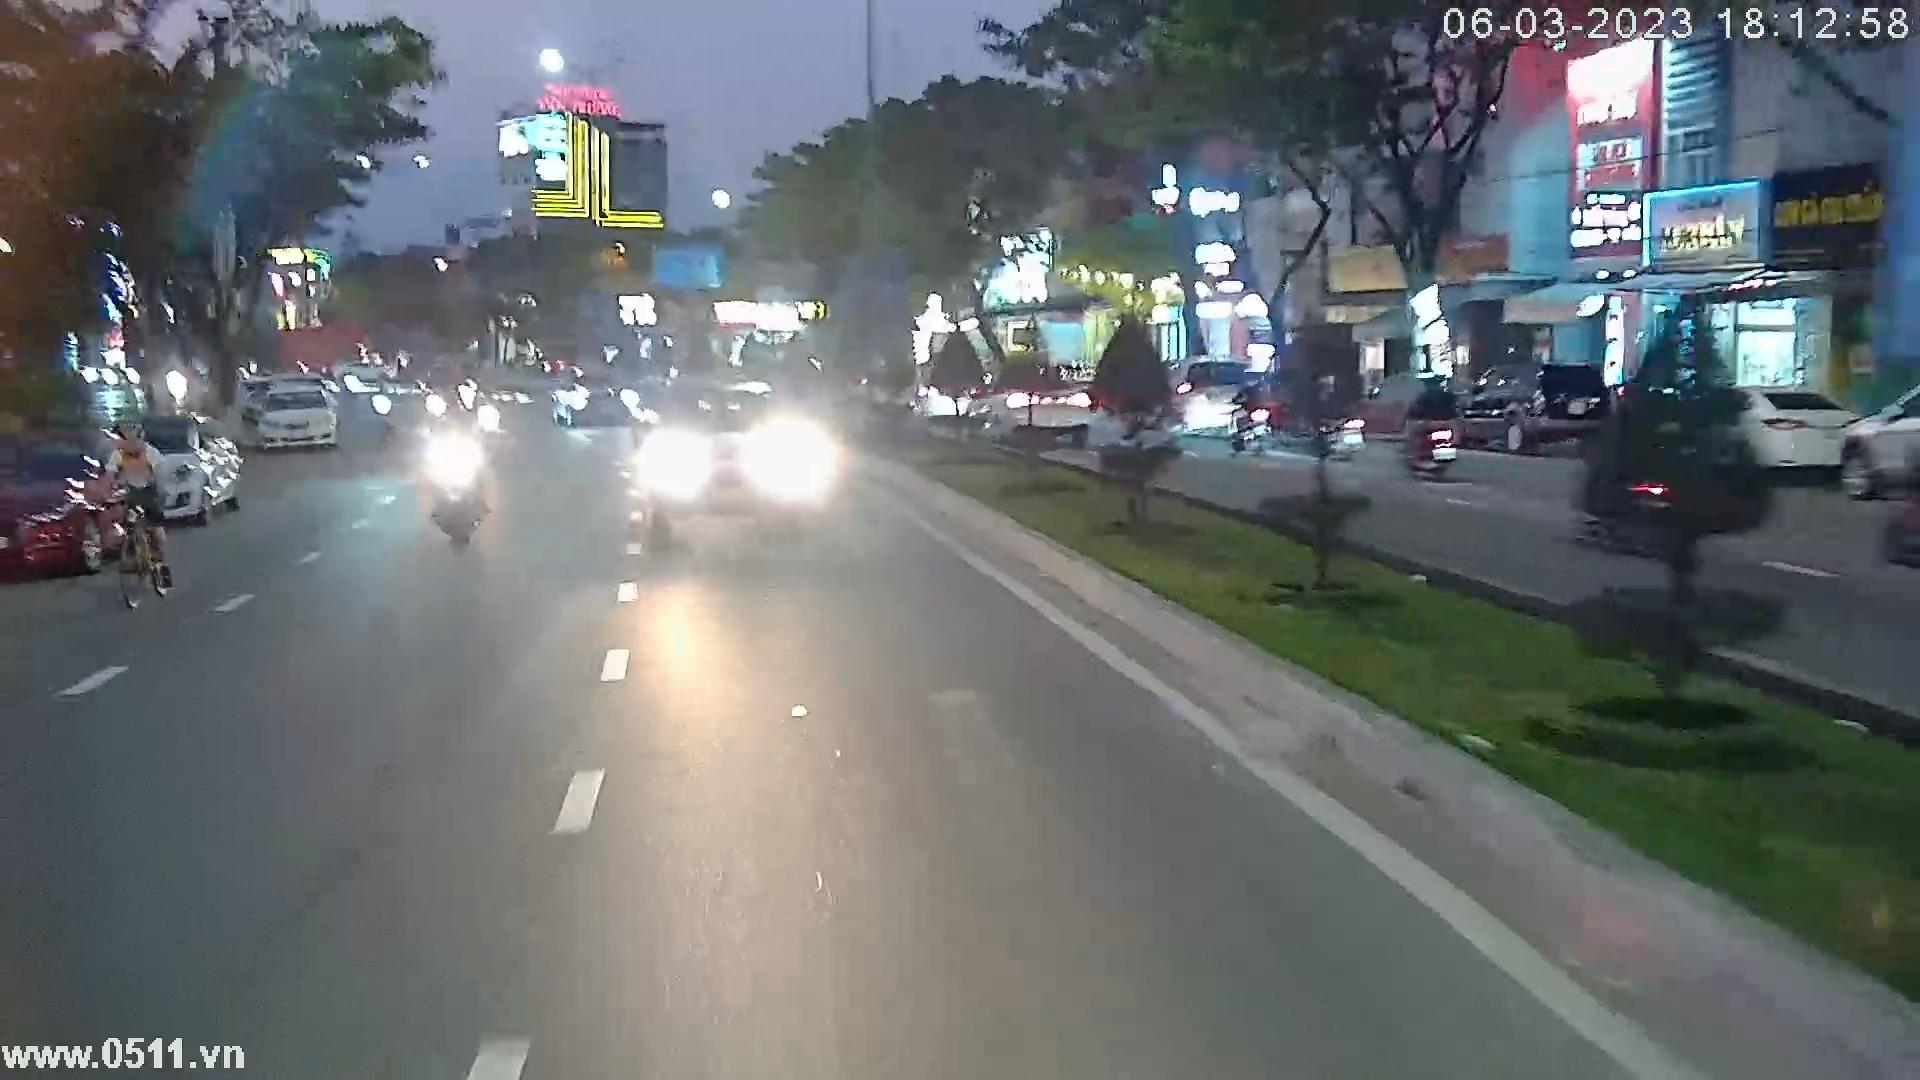bicycle: (100, 418, 181, 622)
car: (637, 371, 812, 542), (0, 426, 138, 579), (1451, 355, 1617, 451), (116, 410, 251, 526), (1163, 343, 1262, 440), (990, 363, 1098, 446), (547, 363, 653, 438), (252, 378, 355, 448)
motorcycle: (415, 356, 496, 551), (1396, 359, 1469, 483), (1316, 355, 1377, 455), (1218, 364, 1280, 458)
